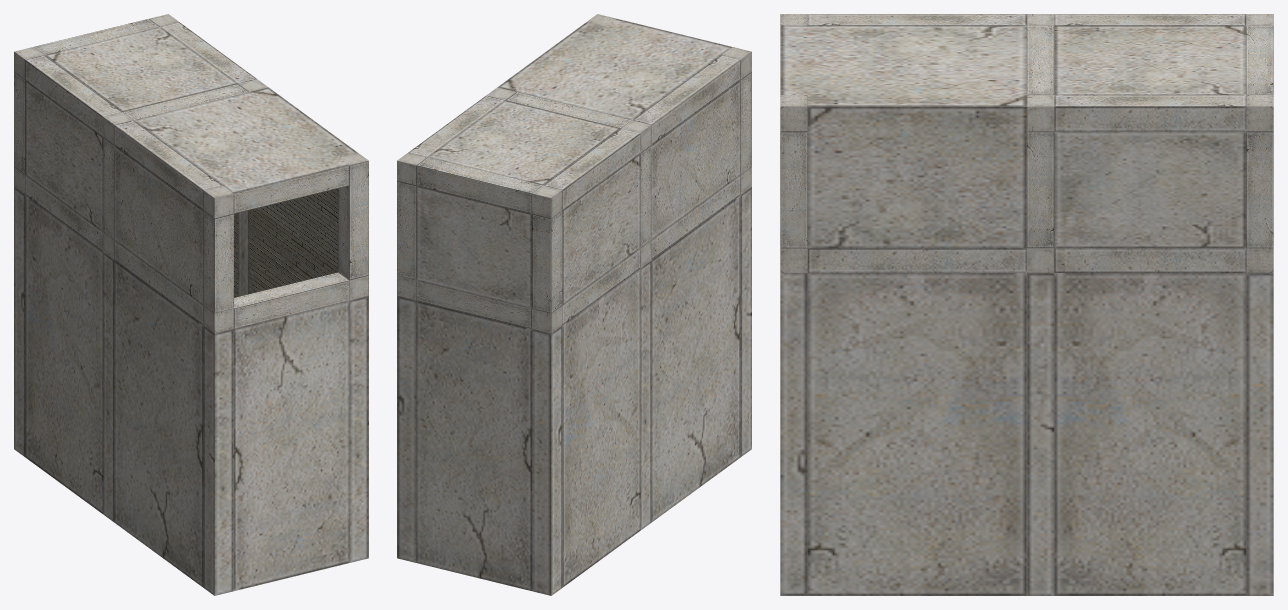
Rendered from SM_SYD_Stairwell_Walls.fbx.
3 views of the same model, side by side, from view 1: azimuth 30°, elevation 25°; view 2: azimuth 150°, elevation 25°; view 3: azimuth 270°, elevation 25° (orthographic). The views are drawn at different scales.
Visible parts, largest first — view 1: SM_SYD_Stairwell_Walls; view 2: SM_SYD_Stairwell_Walls; view 3: SM_SYD_Stairwell_Walls.
Part boxes in pixels (bbox=[...]): SM_SYD_Stairwell_Walls: bbox=[14, 14, 368, 595]; SM_SYD_Stairwell_Walls: bbox=[397, 14, 751, 595]; SM_SYD_Stairwell_Walls: bbox=[780, 14, 1273, 595].
Bounding box in the file's own units: 800 × 1970 × 1800.
